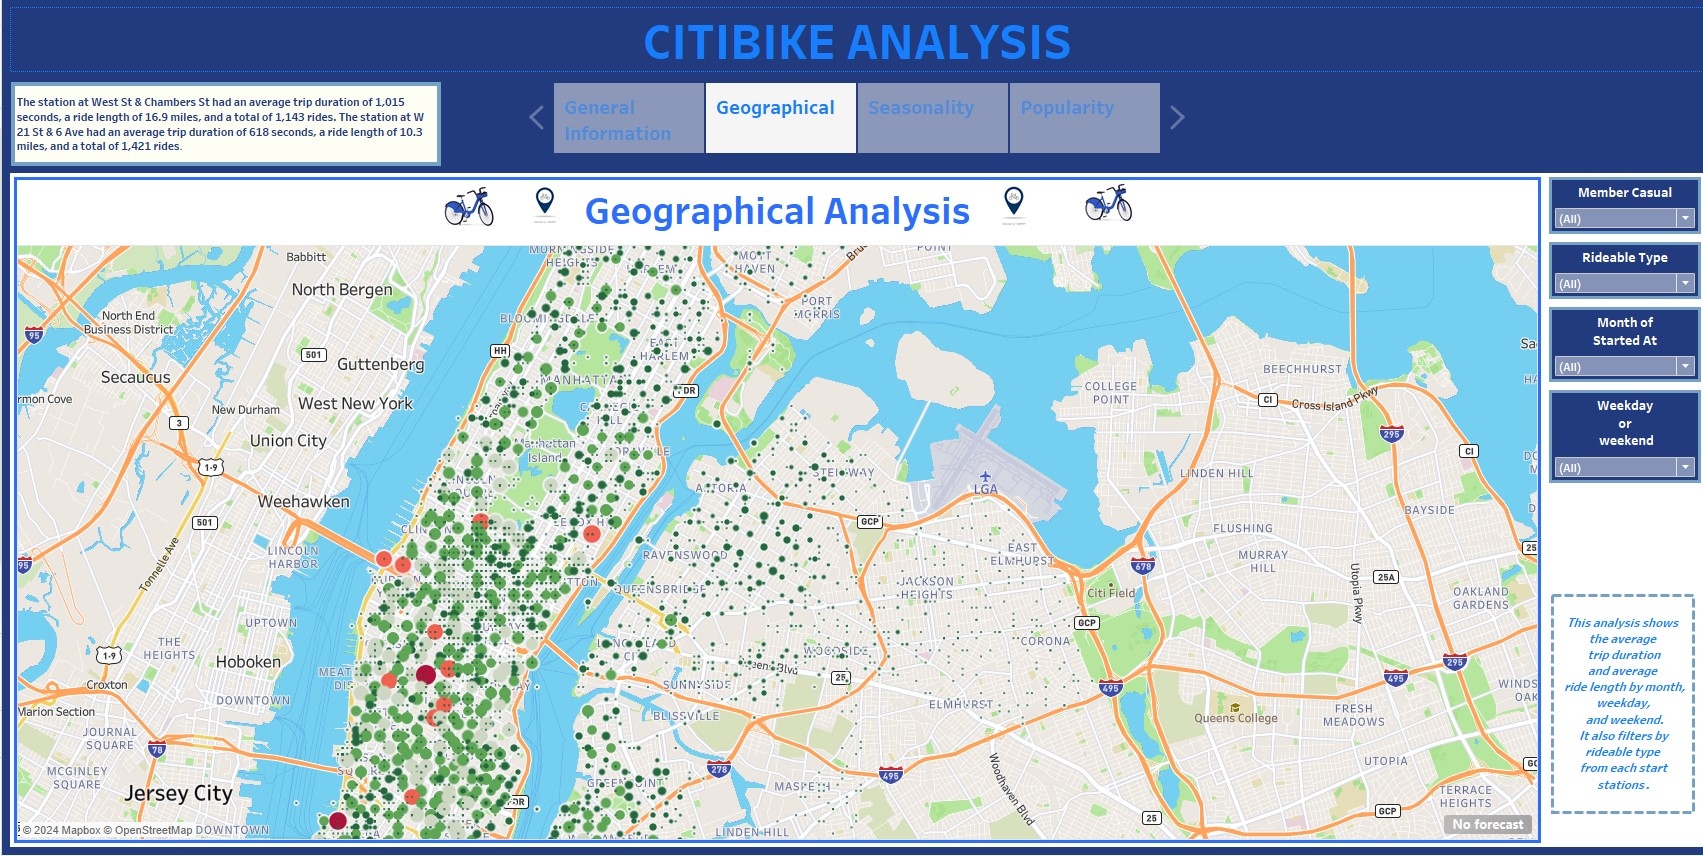

Layout of this report page (visuals, bound fields, positions):
{"tool":"tableau","page":{"name":"ANALYSIS MAP","canvas":[1000,1000],"units":"permille","ordinal":0},"visuals":[{"type":"worksheet","title":"MAP","mark":"Circle","rows":["Calculation_2480639023966539788"],"cols":["Calculation_2480639023967092749"],"box":[0,0,906.5,1000]},{"type":"filter","title":"MAP","param":"[federated.0w41ppg0dqevix11k8kzt1k9ii9s].[none:member_casual:nk]","box":[906.5,0,93.5,75.9]},{"type":"image","param":"C:/Users/Isbelis/Documents/Bootcamp/Homework/Tableau-challenge/CITIBIKE-TABLEAU-","box":[571,14,42.7,63.1]},{"type":"image","param":"C:/Users/Isbelis/Documents/Bootcamp/Homework/Tableau-challenge/CITIBIKE-TABLEAU-","box":[583.9,14,128.6,60.8]},{"type":"image","param":"C:/Users/Isbelis/Documents/Bootcamp/Homework/Tableau-challenge/CITIBIKE-TABLEAU-","box":[296.9,15.2,37.4,59.6]},{"type":"image","param":"C:/Users/Isbelis/Documents/Bootcamp/Homework/Tableau-challenge/CITIBIKE-TABLEAU-","box":[216.2,17.5,108.7,63.1]},{"type":"filter","title":"MAP","param":"[federated.0w41ppg0dqevix11k8kzt1k9ii9s].[none:rideable_type:nk]","box":[906.5,75.9,93.5,75.9]},{"type":"filter","title":"MAP","param":"[federated.0w41ppg0dqevix11k8kzt1k9ii9s].[mn:started_at:ok]","box":[906.5,151.9,93.5,97]},{"type":"filter","title":"MAP","param":"[federated.0w41ppg0dqevix11k8kzt1k9ii9s].[none:Calculation_2480639024720158736:n","box":[906.5,248.8,93.5,118]},{"type":"text","box":[909.4,625,84.8,327.1]}]}

Visuals, with their boxes on the dashboard's canvas, which has no fixed pixel size, in thousandths of its width and height (x1, y1, x2, y2). These are canvas units, not pixel positions in the 1703x856 screenshot, which may show the page scaled, cropped or inside an application window:
"MAP" worksheet (Circle marks): rect(0, 0, 906, 1000)
"MAP" filter: rect(906, 0, 1000, 76)
image: rect(571, 14, 614, 77)
image: rect(584, 14, 712, 75)
image: rect(297, 15, 334, 75)
image: rect(216, 18, 325, 81)
"MAP" filter: rect(906, 76, 1000, 152)
"MAP" filter: rect(906, 152, 1000, 249)
"MAP" filter: rect(906, 249, 1000, 367)
text: rect(909, 625, 994, 952)
